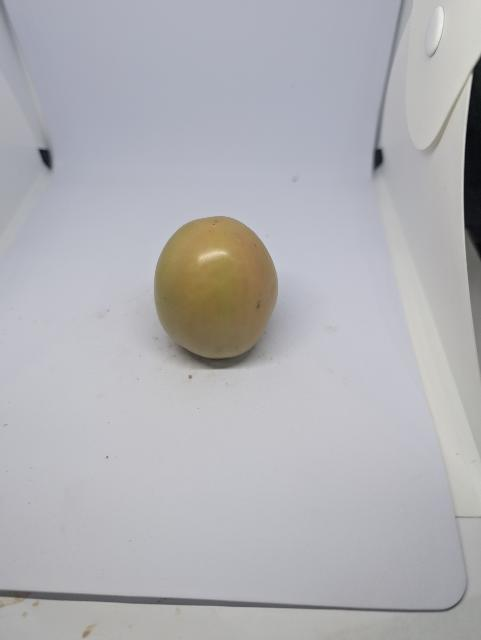breaker: (155, 216, 278, 359)
